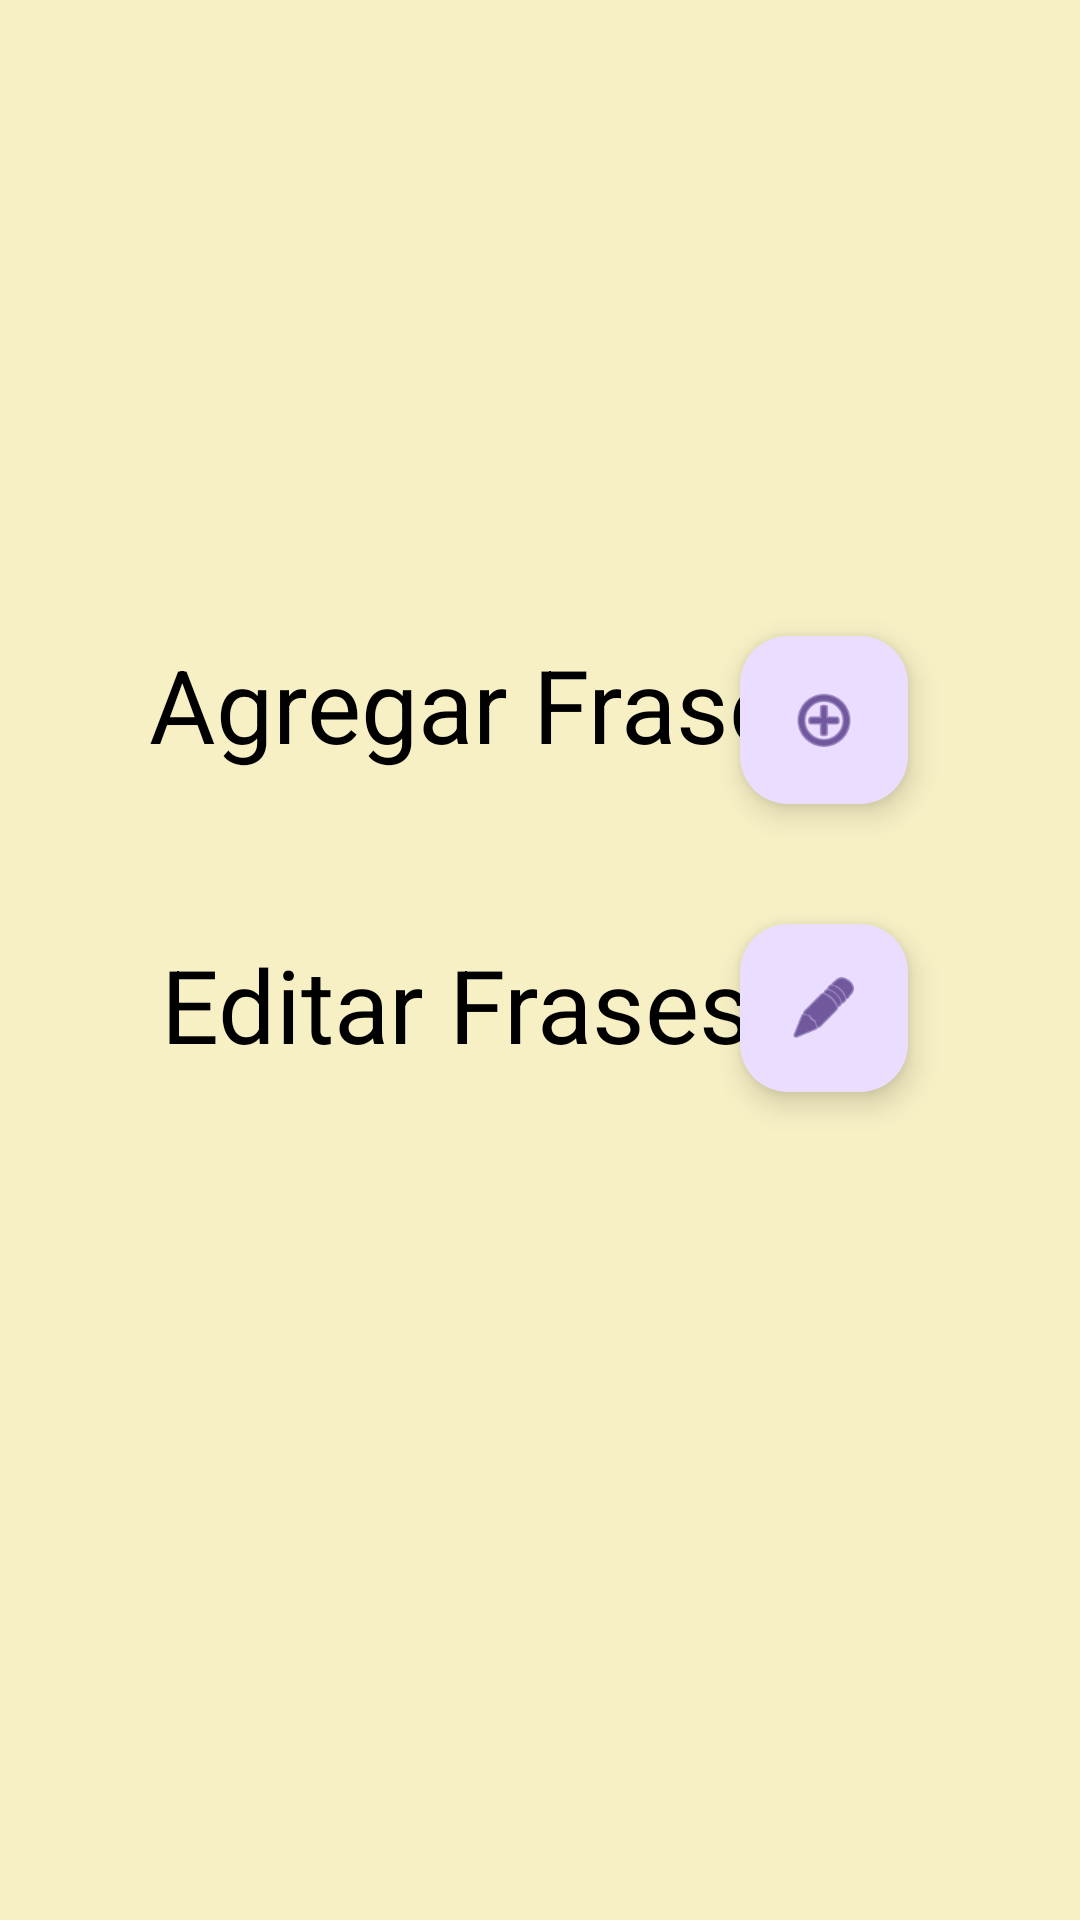

Icons on this 1080 x 1920 Android screen, each with its box as box(x1, y1, x2, y2):
add: box(740, 636, 908, 804)
